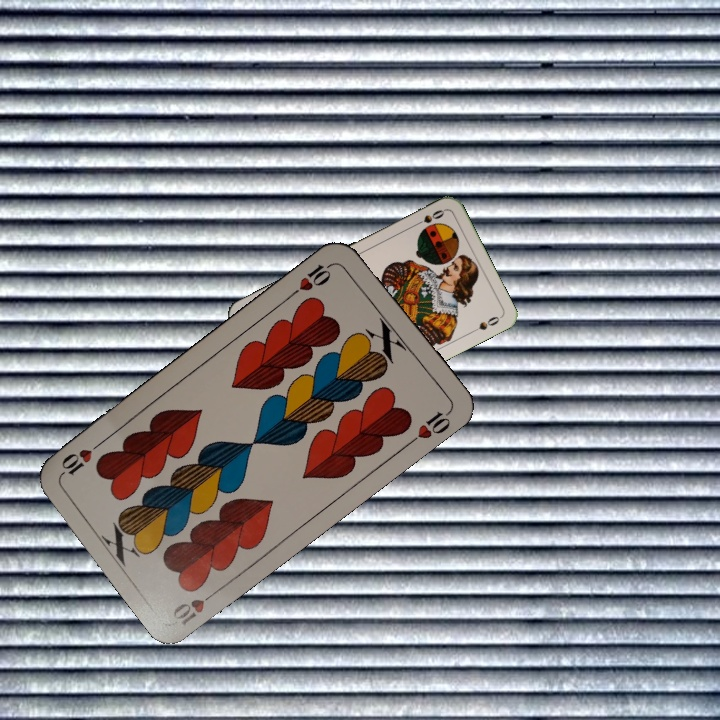H10: (168, 584, 223, 629), (287, 258, 338, 299)
SO: (410, 206, 447, 230)
